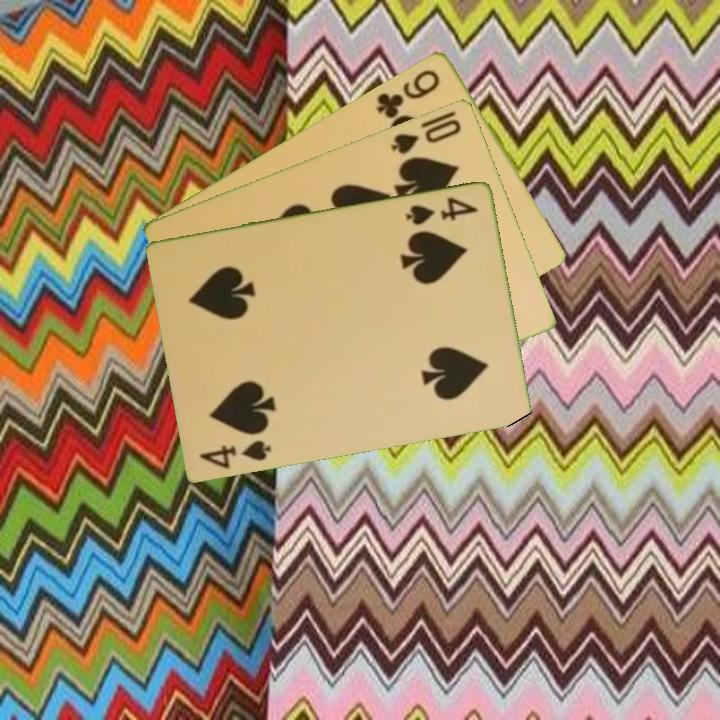10s: (387, 115, 465, 157)
4s: (402, 193, 481, 228), (196, 436, 274, 471)
9c: (372, 65, 443, 121)
